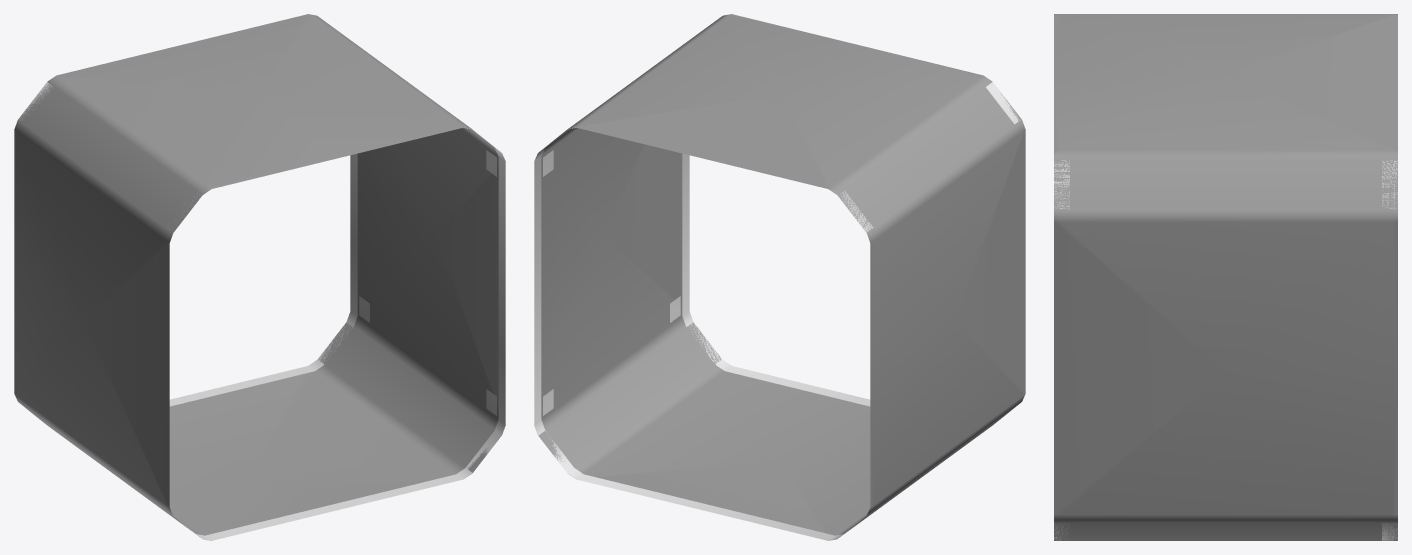
The model's file is VentStraight.fbx.
The picture shows the model from 3 angles, left to right: view 1: azimuth 30°, elevation 25°; view 2: azimuth 150°, elevation 25°; view 3: azimuth 270°, elevation 25°; orthographic projection. The views are drawn at different scales.
Visible parts, largest first — view 1: Cube, StylizedHardSurface_Panels_002.079, StylizedHardSurface_Decals_023.006_projected; view 2: Cube, StylizedHardSurface_Panels_002.079, StylizedHardSurface_Decals_023.006_projected; view 3: Cube, StylizedHardSurface_Panels_002.079.
Part boxes in pixels (bbox=[...]): Cube: bbox=[14, 14, 505, 540]; StylizedHardSurface_Panels_002.079: bbox=[18, 82, 505, 540]; StylizedHardSurface_Decals_023.006_projected: bbox=[359, 150, 496, 415]; Cube: bbox=[534, 14, 1025, 540]; StylizedHardSurface_Panels_002.079: bbox=[534, 82, 1019, 540]; StylizedHardSurface_Decals_023.006_projected: bbox=[543, 150, 680, 415]; Cube: bbox=[1054, 14, 1397, 540]; StylizedHardSurface_Panels_002.079: bbox=[1054, 160, 1397, 540].
Bounding box in the file's own units: 131 × 130 × 100.
